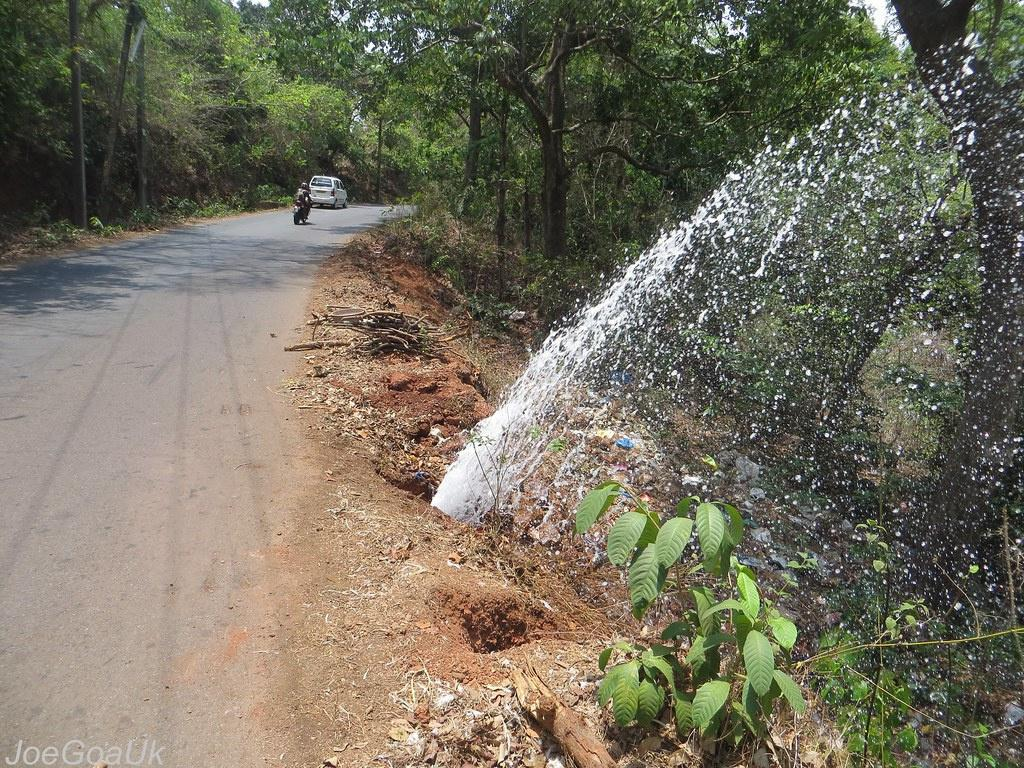pipe burst: (429, 34, 1024, 531)
